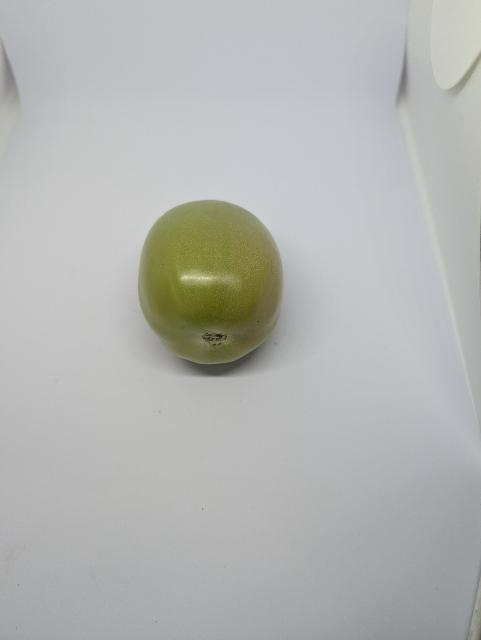green: (136, 195, 288, 381)
